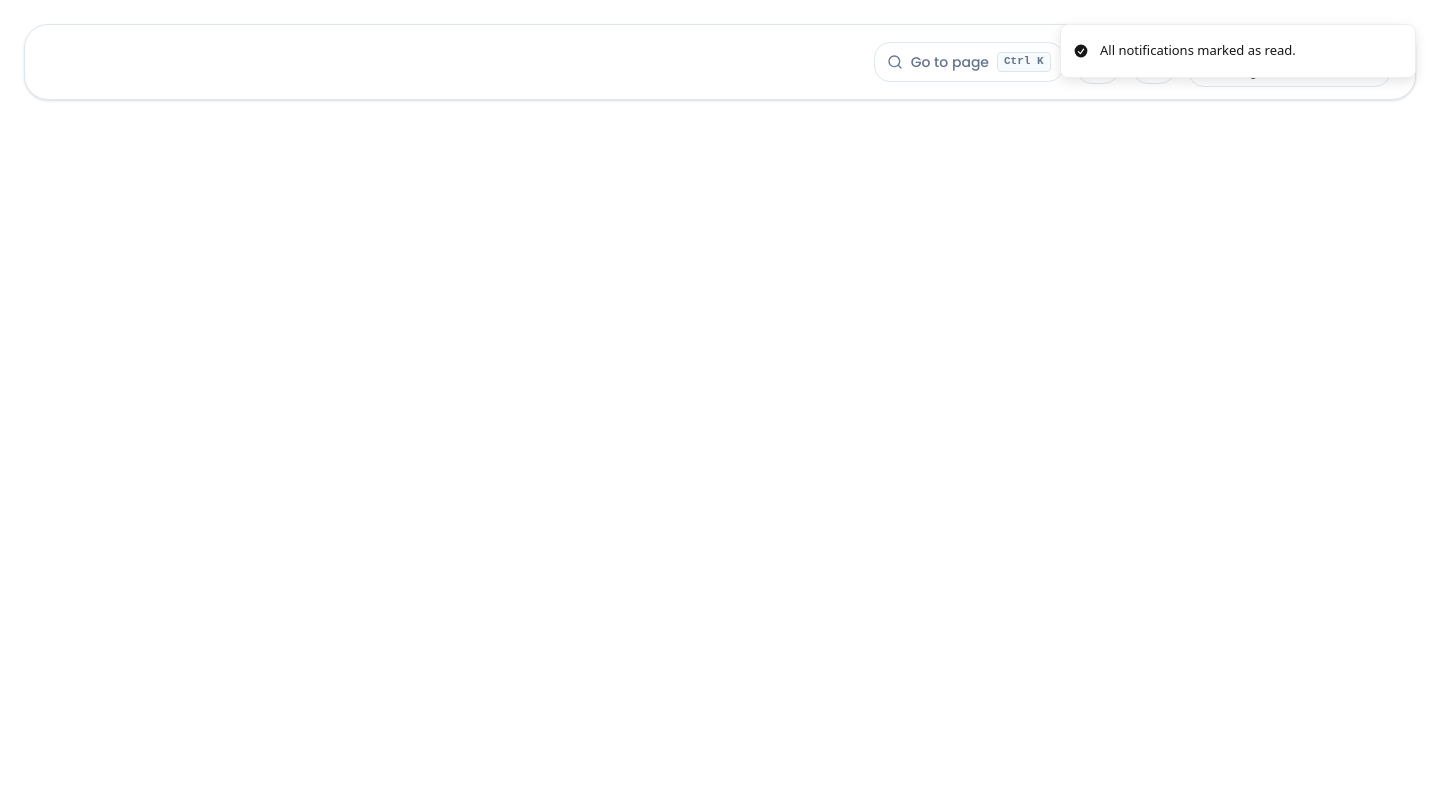
Test: TopBar notifications › opens the page search from the header control
Click the button "Go to page Ctrl K". click: (969, 62)
box: [874,42,1064,82]
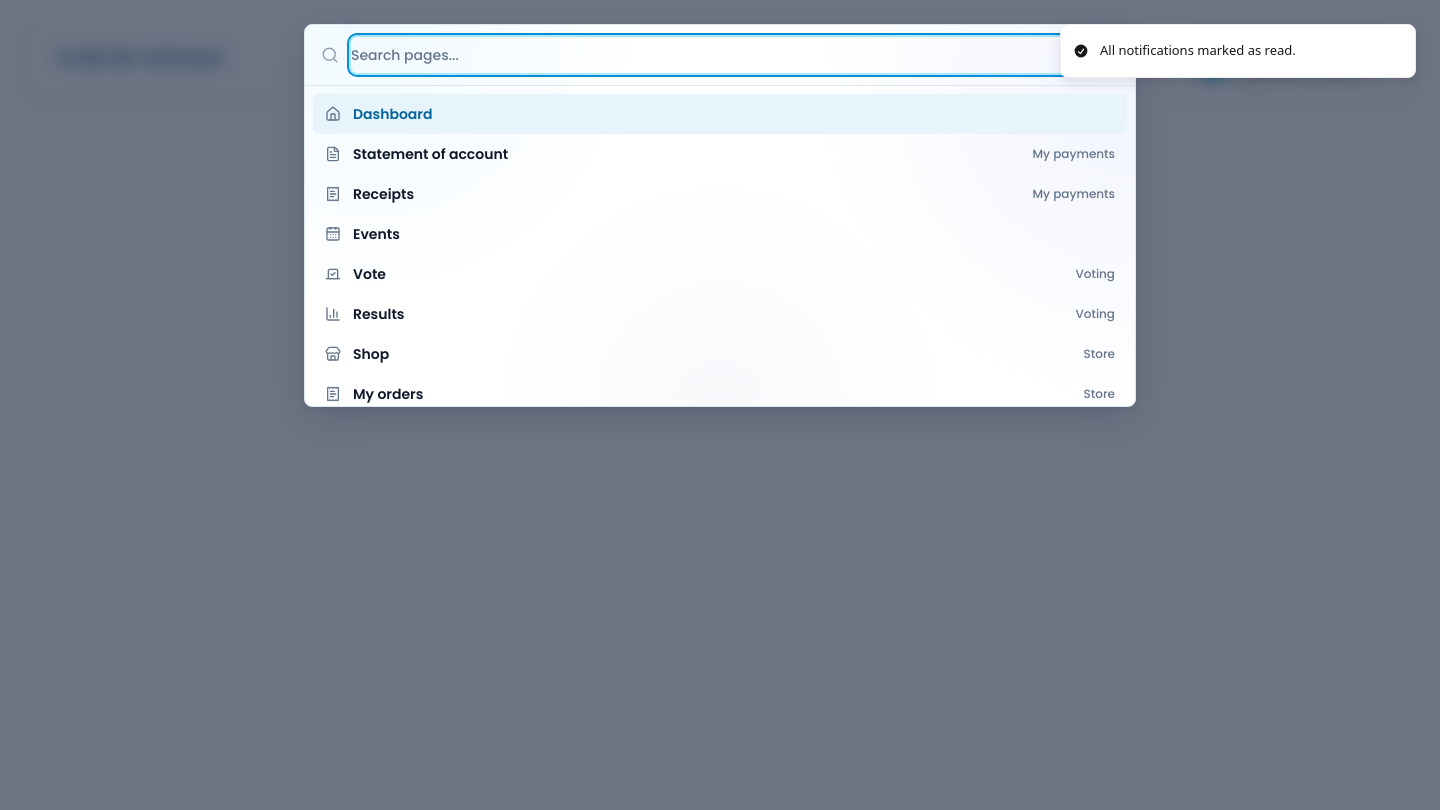
Expected: the dropdown labelled "Search pages" is shown, [351,37,1119,73]
